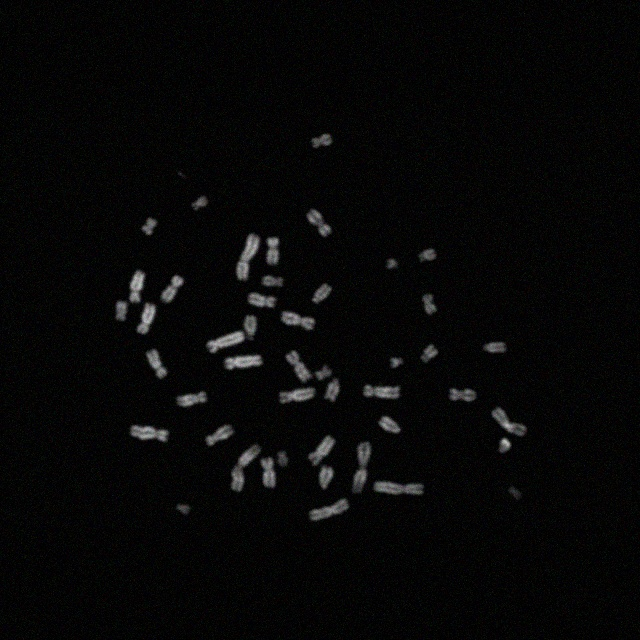chromosome: (230, 442, 260, 492), (236, 235, 260, 281), (491, 406, 527, 436), (352, 441, 372, 494), (308, 498, 350, 522), (284, 351, 312, 384), (374, 480, 424, 498), (207, 331, 246, 354), (308, 435, 336, 465), (129, 424, 169, 444), (278, 386, 316, 406), (282, 310, 316, 332), (159, 275, 185, 303), (307, 209, 331, 237), (146, 350, 168, 380), (224, 356, 264, 372), (362, 384, 400, 400), (136, 302, 156, 332), (205, 424, 232, 446), (128, 270, 146, 302), (248, 290, 276, 310), (316, 464, 336, 492), (449, 386, 476, 406), (378, 414, 402, 436), (420, 292, 438, 318), (178, 391, 206, 407), (262, 456, 276, 488), (311, 283, 331, 305), (324, 377, 340, 403), (420, 344, 438, 366), (114, 300, 130, 324), (266, 238, 280, 264), (244, 316, 258, 342), (482, 341, 508, 355), (142, 216, 158, 238), (310, 134, 332, 150), (191, 195, 209, 213), (262, 274, 284, 288), (418, 249, 436, 265), (316, 364, 332, 382), (497, 438, 511, 456), (385, 256, 399, 272), (276, 451, 290, 467), (391, 355, 403, 369)
